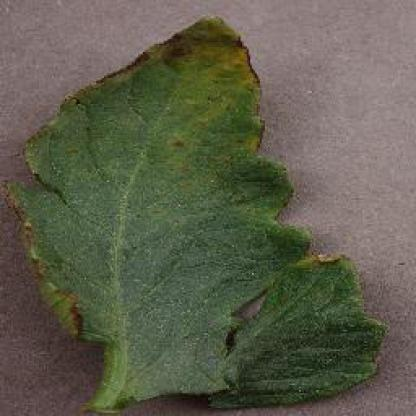bad leaf: (124, 216, 408, 376), (159, 114, 344, 292), (86, 270, 317, 406), (32, 219, 194, 365), (33, 119, 173, 241), (46, 35, 173, 158), (187, 32, 304, 164), (145, 23, 246, 120)
